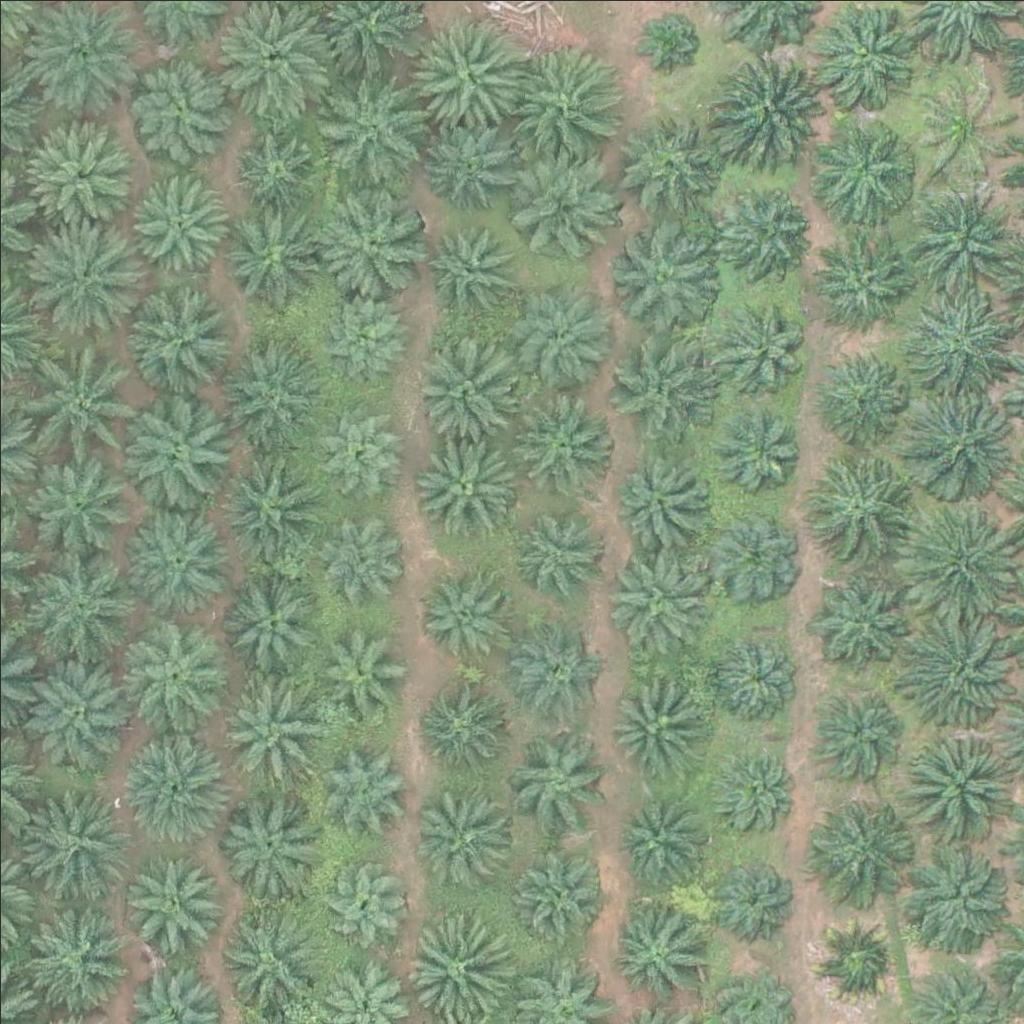Kelapa_Sawit: (22, 212, 135, 326), (16, 789, 129, 903), (128, 387, 241, 500), (320, 82, 433, 195), (413, 18, 526, 131), (508, 277, 621, 390), (508, 158, 621, 271), (516, 44, 629, 157), (611, 217, 724, 330), (712, 48, 825, 161), (23, 654, 136, 767), (16, 900, 129, 1013), (117, 728, 230, 841), (211, 666, 324, 779), (213, 908, 326, 1021), (899, 504, 1012, 617), (899, 615, 1012, 728), (900, 733, 1013, 846), (899, 848, 1012, 961), (318, 183, 430, 297), (508, 383, 620, 497), (904, 286, 1016, 400), (903, 173, 1015, 287), (214, 451, 326, 565), (403, 908, 515, 1022), (599, 542, 711, 656), (896, 389, 1008, 503), (23, 118, 135, 231), (16, 343, 128, 456), (131, 282, 243, 395), (213, 334, 325, 447), (216, 194, 328, 307), (216, 6, 328, 119), (405, 331, 517, 444), (605, 334, 717, 447), (25, 455, 137, 568), (26, 546, 138, 659), (119, 499, 231, 612), (410, 430, 522, 543), (804, 789, 916, 902), (802, 439, 914, 552), (129, 168, 229, 269), (129, 56, 229, 157), (419, 111, 519, 212), (415, 224, 515, 325), (615, 110, 715, 211), (718, 178, 818, 279), (909, 82, 1009, 183), (119, 853, 219, 954), (123, 616, 223, 717), (227, 572, 327, 673), (216, 789, 316, 890), (417, 564, 517, 665), (510, 839, 610, 940), (505, 495, 605, 596), (605, 903, 705, 1004), (705, 503, 805, 604), (813, 563, 913, 664), (812, 221, 912, 321), (819, 120, 919, 220), (416, 787, 516, 887), (507, 730, 607, 830), (507, 606, 607, 706), (602, 670, 702, 770), (609, 449, 709, 549), (704, 625, 804, 725), (236, 123, 324, 211), (319, 293, 407, 381), (719, 304, 807, 392), (822, 350, 910, 438), (316, 628, 404, 716), (311, 508, 399, 596), (423, 683, 511, 771), (615, 799, 703, 887), (716, 407, 804, 495), (709, 848, 797, 936), (709, 743, 797, 831), (320, 857, 407, 945), (319, 738, 406, 826), (317, 403, 404, 491), (815, 913, 902, 1001), (818, 692, 905, 780), (630, 7, 705, 82)
